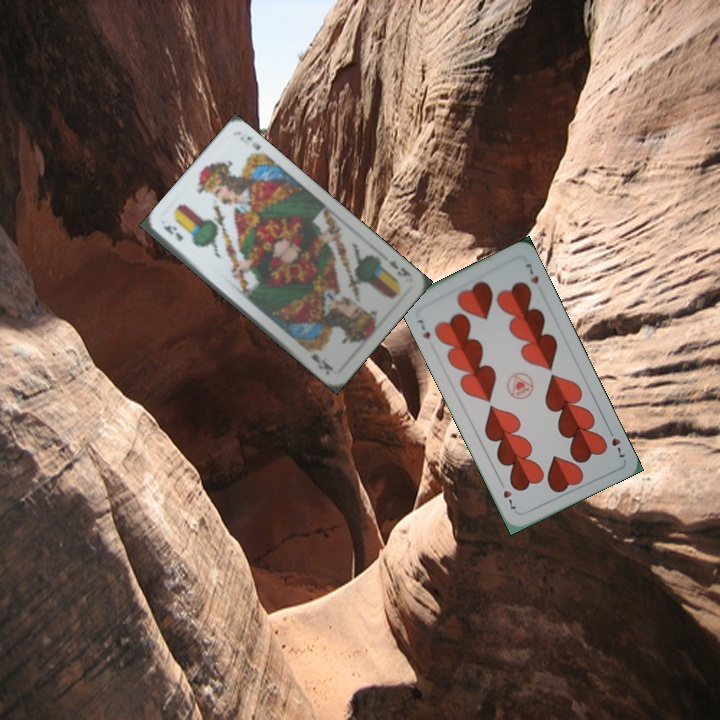EK: (384, 256, 415, 280), (159, 221, 186, 244)
H7: (603, 424, 628, 460), (413, 315, 433, 341)
